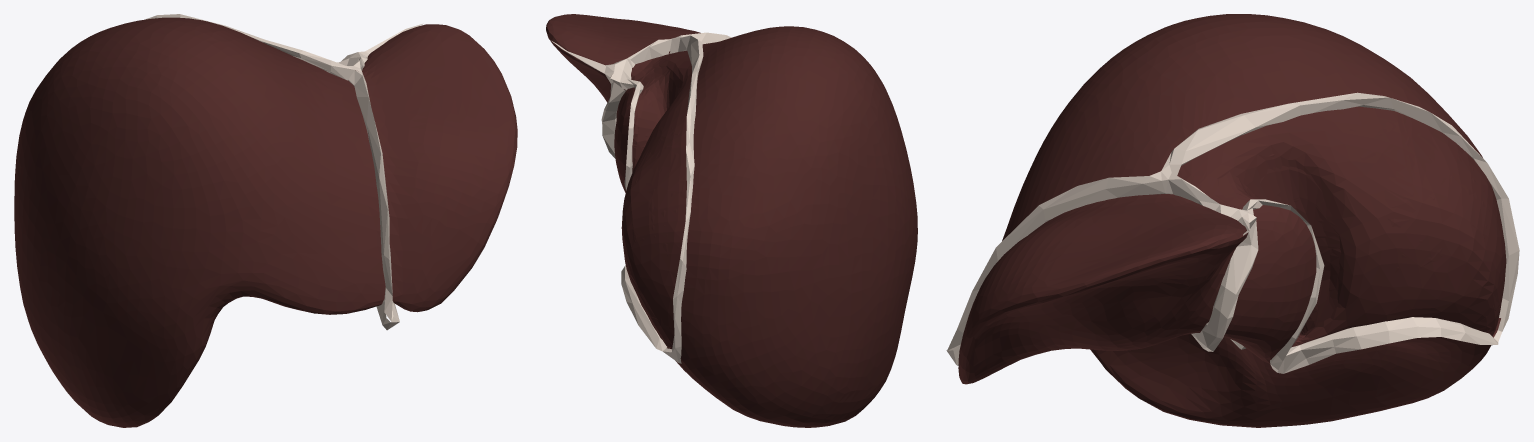
The model's file is VH_M_Liver_0.4.glb.
3 views of the same model, side by side, from view 1: azimuth 30°, elevation 25°; view 2: azimuth 150°, elevation 25°; view 3: azimuth 270°, elevation 25° (orthographic). The views are drawn at different scales.
Parts seen in each view (by area): view 1: VH_M_liver_capsule, VH_M_falciform_ligament, VH_M_coronary_ligament_of_liver; view 2: VH_M_liver_capsule, VH_M_bare_area_of_liver, VH_M_coronary_ligament_of_liver, VH_M_caudate_lobe_of_liver, VH_M_right_posterosuperior_segment, VH_M_ligamentum_venosum, VH_M_diaphragmatic_surface, VH_M_triangular_ligament_of_liver; view 3: VH_M_liver_capsule, VH_M_bare_area_of_liver, VH_M_coronary_ligament_of_liver, VH_M_falciform_ligament, VH_M_caudate_lobe_of_liver, VH_M_diaphragmatic_surface, VH_M_ligamentum_venosum, VH_M_right_posterosuperior_segment.
Part boxes in pixels (x1,y1,x2,y2): VH_M_liver_capsule: [14, 17, 517, 427]; VH_M_falciform_ligament: [348, 70, 393, 321]; VH_M_coronary_ligament_of_liver: [145, 14, 367, 80]; VH_M_liver_capsule: [546, 14, 917, 427]; VH_M_bare_area_of_liver: [621, 51, 691, 346]; VH_M_coronary_ligament_of_liver: [610, 35, 703, 363]; VH_M_caudate_lobe_of_liver: [632, 54, 689, 164]; VH_M_right_posterosuperior_segment: [631, 99, 688, 315]; VH_M_ligamentum_venosum: [601, 79, 626, 158]; VH_M_diaphragmatic_surface: [632, 73, 680, 338]; VH_M_triangular_ligament_of_liver: [550, 40, 616, 83]; VH_M_liver_capsule: [958, 14, 1500, 427]; VH_M_bare_area_of_liver: [1177, 106, 1506, 343]; VH_M_coronary_ligament_of_liver: [1161, 92, 1519, 373]; VH_M_falciform_ligament: [947, 171, 1165, 350]; VH_M_caudate_lobe_of_liver: [1189, 144, 1347, 345]; VH_M_diaphragmatic_surface: [1225, 154, 1495, 347]; VH_M_ligamentum_venosum: [1191, 218, 1258, 351]; VH_M_right_posterosuperior_segment: [1334, 107, 1497, 314].
Size of the model in its own units: 0.1915 by 0.1747 by 0.2022.
